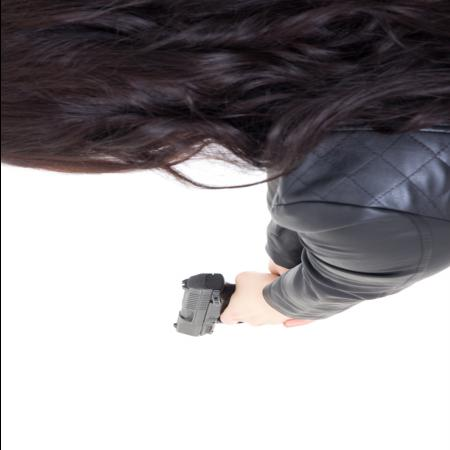Pistol: (156, 266, 286, 350)
